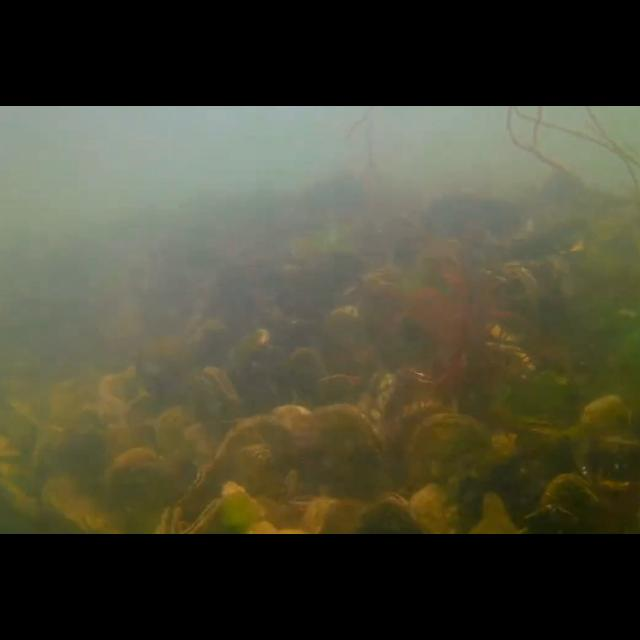Oyster-Closed: (176, 415, 316, 535), (268, 404, 396, 534), (405, 415, 497, 535), (575, 393, 640, 496), (104, 442, 168, 534), (152, 407, 214, 498), (533, 471, 605, 535), (38, 478, 118, 534), (412, 481, 474, 535), (359, 491, 418, 535)
Oyster-Open: (182, 364, 242, 454), (178, 497, 250, 535), (362, 366, 400, 432), (155, 504, 187, 534)
